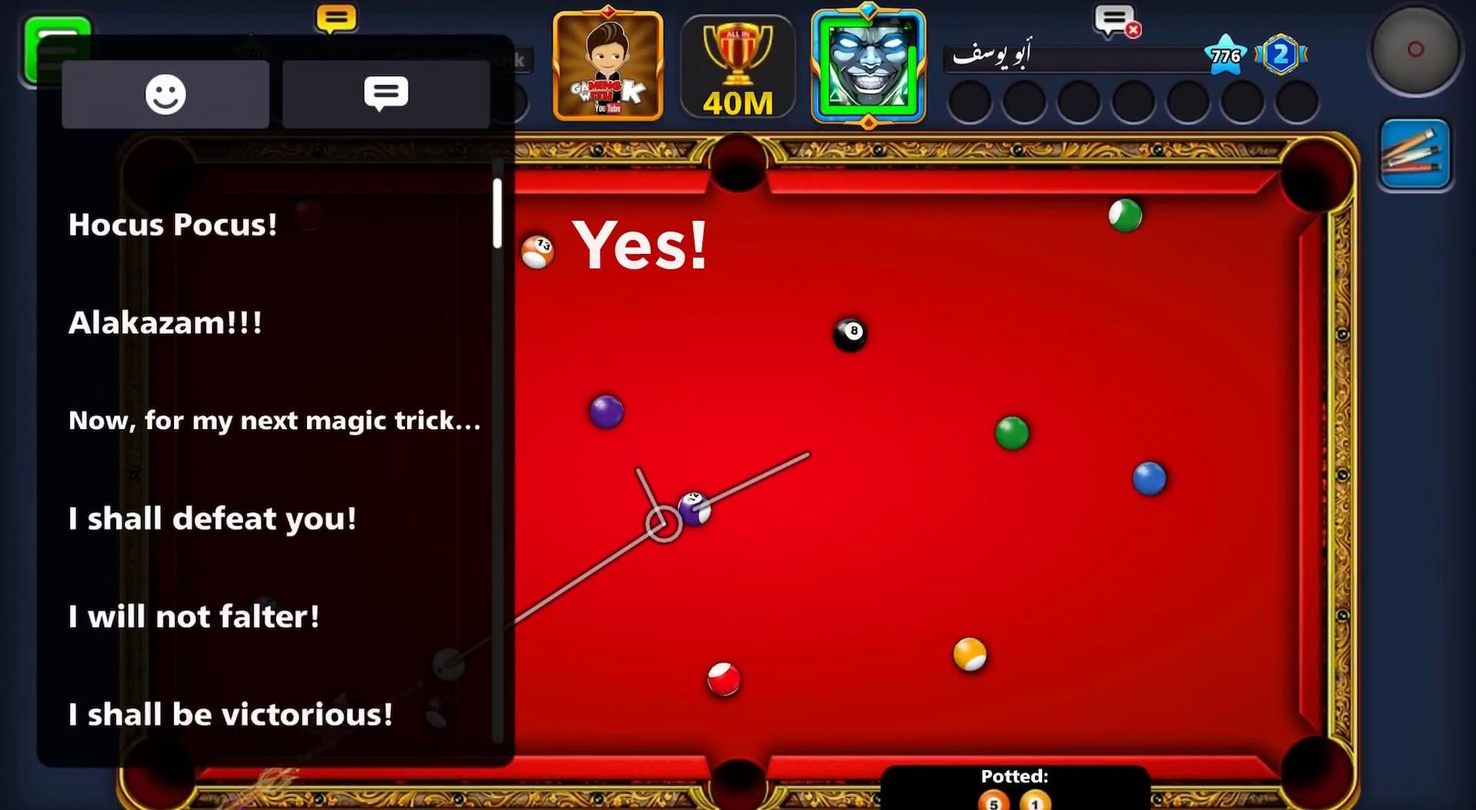Ball: (403, 701, 455, 749), (948, 629, 993, 679), (585, 387, 631, 435), (519, 227, 557, 279), (704, 657, 745, 702), (990, 414, 1034, 453), (831, 312, 869, 356), (1131, 458, 1168, 500), (1108, 197, 1146, 237)
Guideline: (510, 463, 670, 626), (709, 445, 813, 509), (644, 504, 686, 545)
Hole: (1273, 726, 1356, 810), (118, 736, 207, 810), (1282, 134, 1354, 216), (700, 751, 778, 810), (703, 134, 772, 196)
White: (425, 644, 476, 689)
